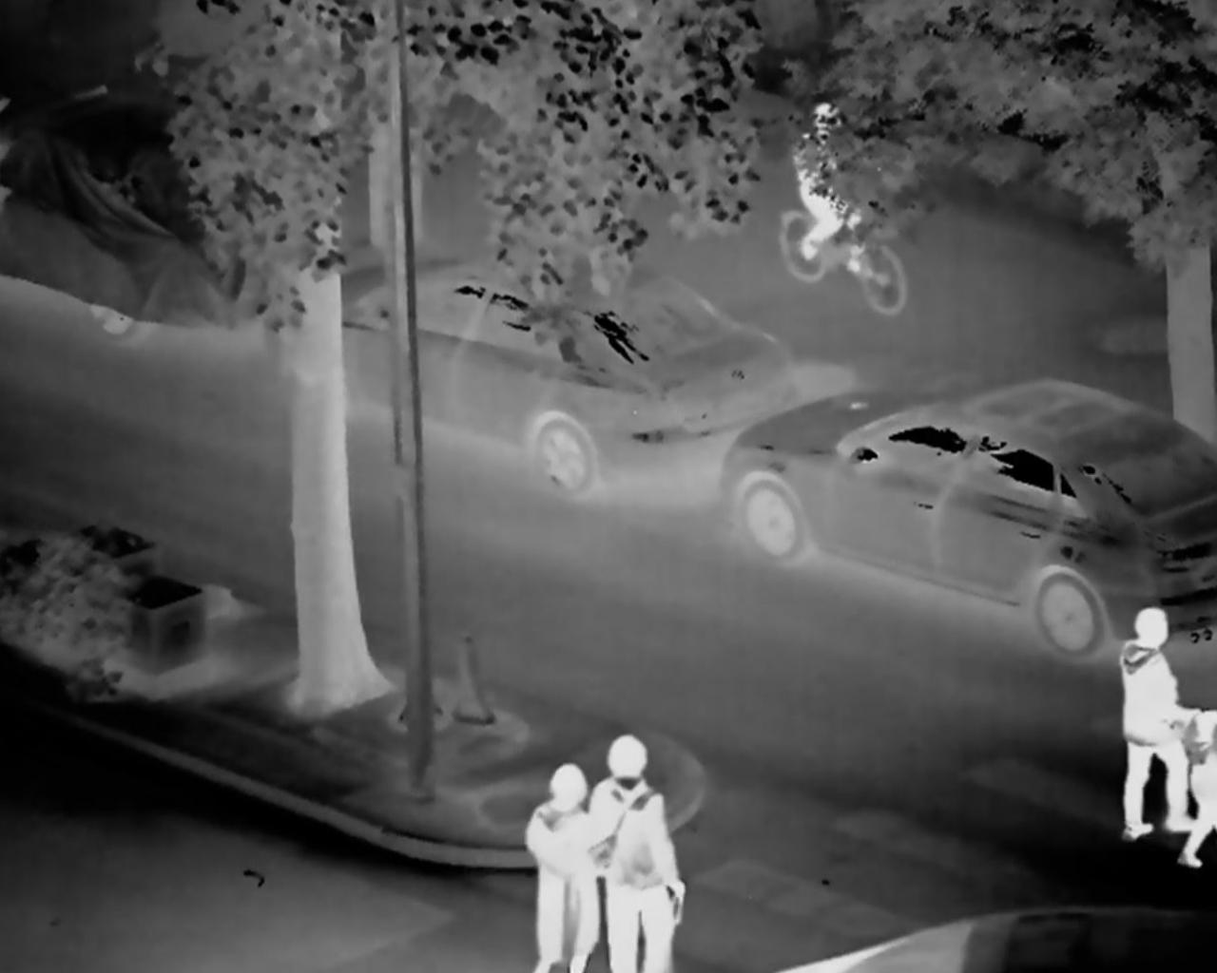person: (591, 730, 694, 973), (1105, 601, 1198, 849), (516, 754, 604, 973), (790, 100, 874, 268)
